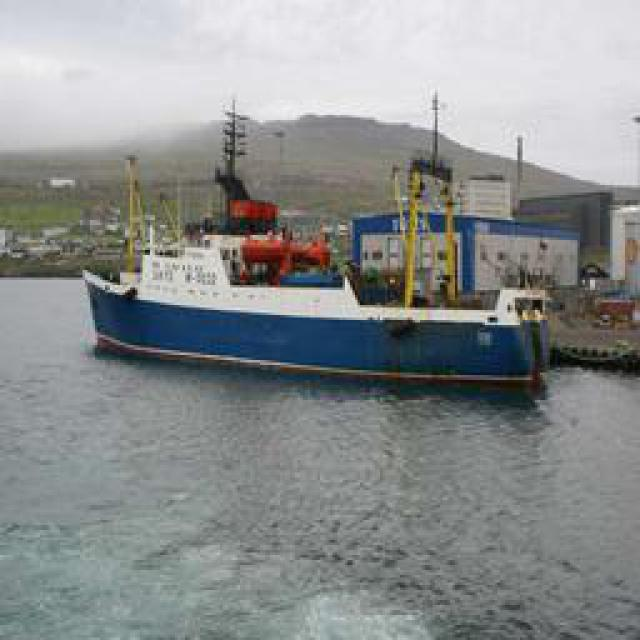Ship: (80, 155, 555, 390)
